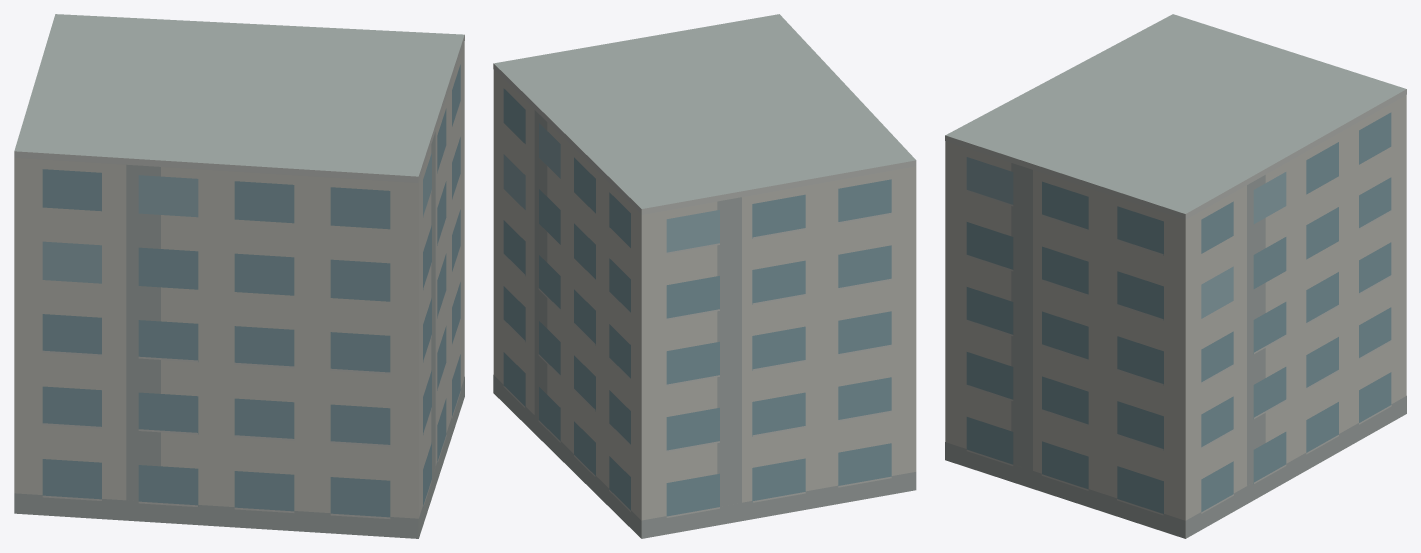
Rendered from survey-upis-32830884.glb.
The picture shows the model from 3 angles, left to right: view 1: azimuth 30°, elevation 25°; view 2: azimuth 150°, elevation 25°; view 3: azimuth 270°, elevation 25°; orthographic projection. The views are drawn at different scales.
Parts seen in each view (by area): view 1: survey-upis-32830884.tmp; view 2: survey-upis-32830884.tmp; view 3: survey-upis-32830884.tmp.
Boxes of the visible parts, box(x1,y1,x2,y2) form: survey-upis-32830884.tmp: box(14, 14, 464, 538); survey-upis-32830884.tmp: box(493, 14, 916, 538); survey-upis-32830884.tmp: box(945, 14, 1406, 538).
Size of the model in its own units: 18.11 by 13.7 by 17.65.
